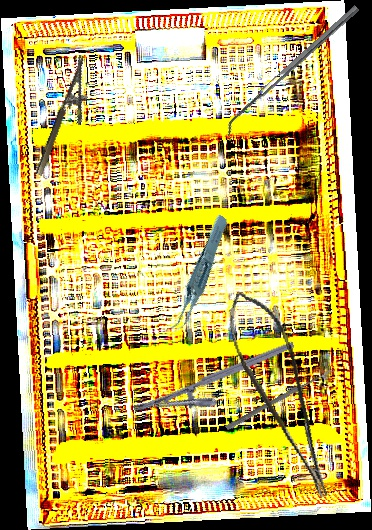Micro Scissor: (218, 282, 336, 510)
Needle Holder: (132, 339, 304, 436), (34, 54, 104, 183)
Spatula Surgical: (219, 4, 365, 138)
Surgical Spoon: (225, 366, 335, 432)
Tissue Forceps: (146, 213, 250, 335)
